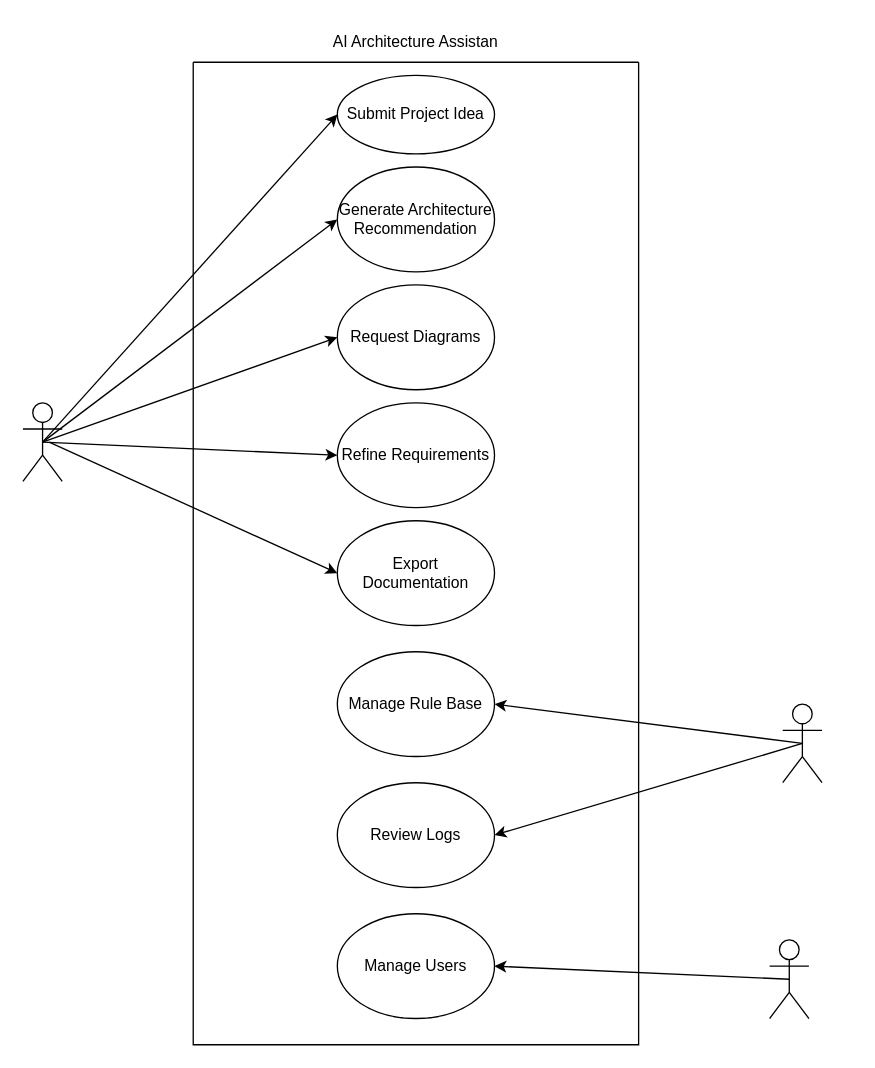
Image size: 875x1068. Some labels were removed from this diagram. Each missing label, with the centre of its shape:
"Admin" goes at point (788, 979).
"Lead Architect" goes at point (801, 743).
"User" goes at point (42, 441).
